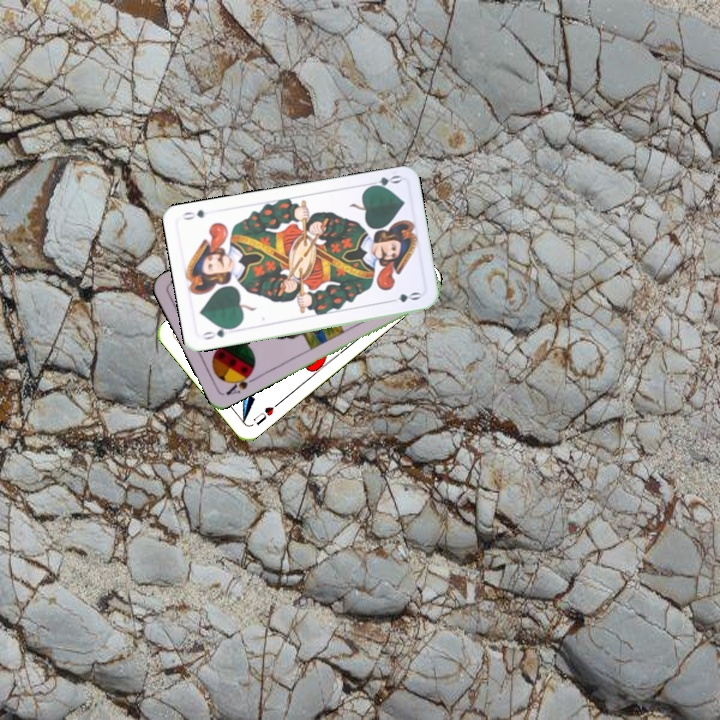GO: (363, 171, 403, 191), (198, 323, 238, 342)
HU: (249, 398, 282, 428)
SA: (222, 367, 259, 398)
